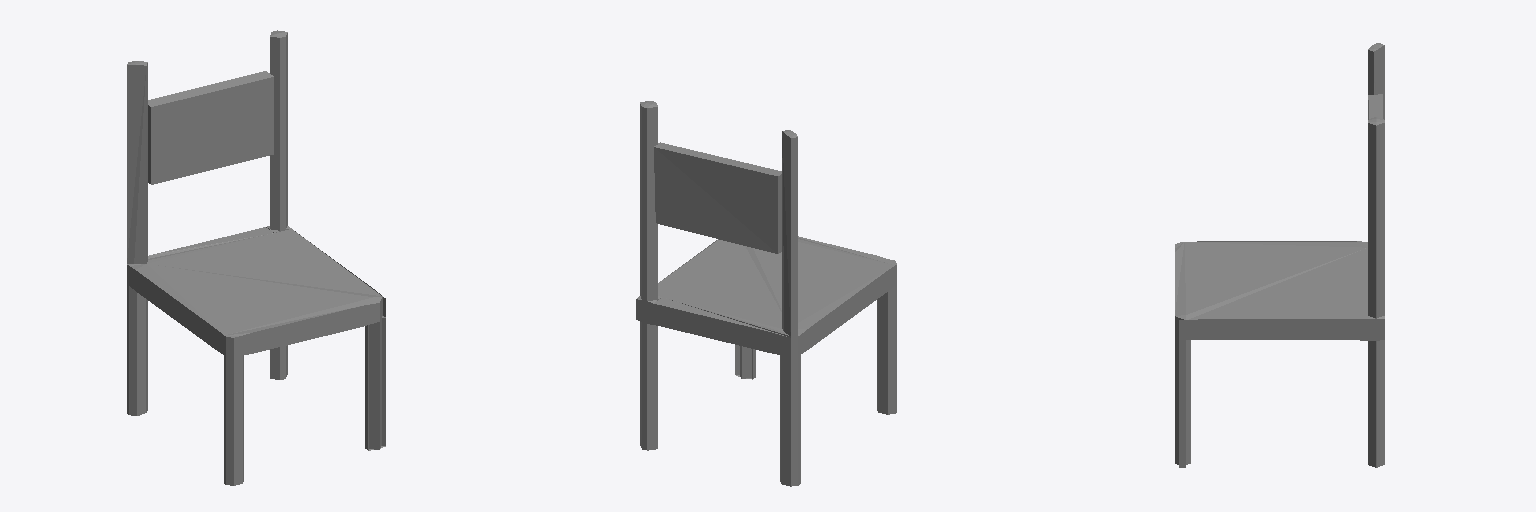
Rendered from Chair.obj.
The picture shows the model from 3 angles: view 1: azimuth 30°, elevation 25°; view 2: azimuth 150°, elevation 25°; view 3: azimuth 270°, elevation 25°; orthographic projection.
Visible parts, largest first — view 1: Cube_Cube.003; view 2: Cube_Cube.003; view 3: Cube_Cube.003.
Part boxes in pixels (x1,y1,x2,y2): Cube_Cube.003: (127, 30, 385, 485); Cube_Cube.003: (636, 101, 896, 486); Cube_Cube.003: (1175, 43, 1384, 467).
Bounding box in the file's own units: 0.4994 × 1.05 × 0.5715.